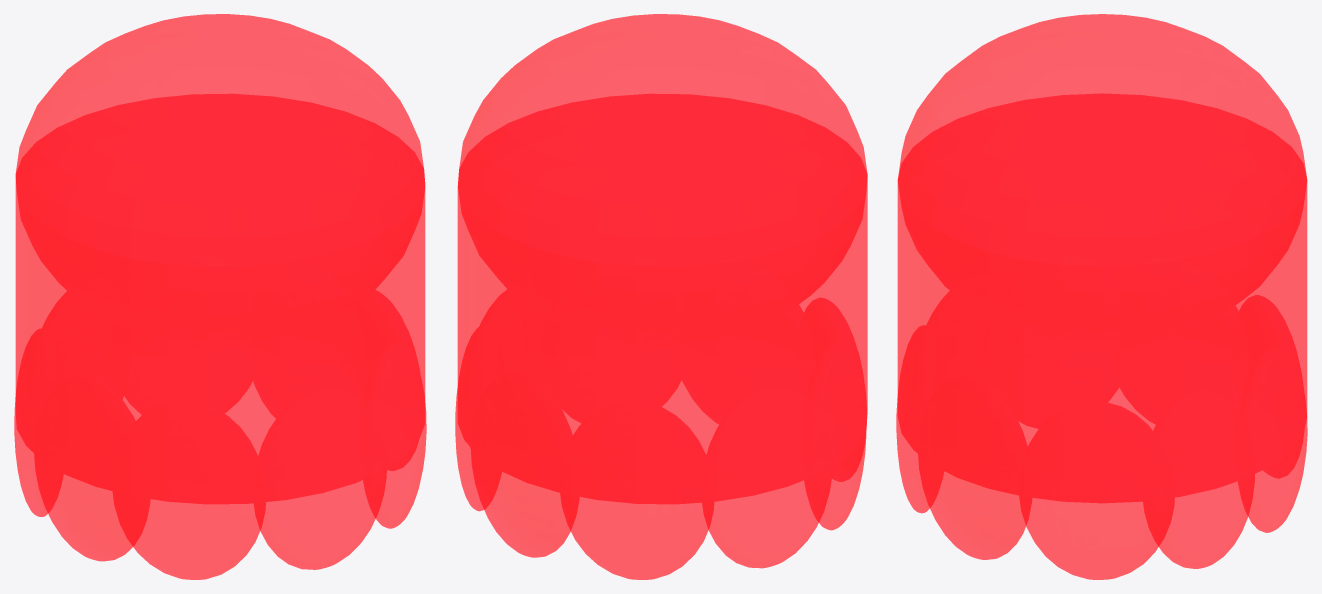
The model's file is EnemyGhost.fbx.
3 views of the same model, side by side, from view 1: azimuth 30°, elevation 25°; view 2: azimuth 150°, elevation 25°; view 3: azimuth 270°, elevation 25° (orthographic).
Parts seen in each view (by area): view 1: Sphere.010; view 2: Sphere.010; view 3: Sphere.010.
Boxes of the visible parts, bbox=[...] form: Sphere.010: bbox=[14, 14, 426, 579]; Sphere.010: bbox=[455, 14, 867, 579]; Sphere.010: bbox=[896, 14, 1307, 579].
Bounding box in the file's own units: 157 × 196 × 157.
